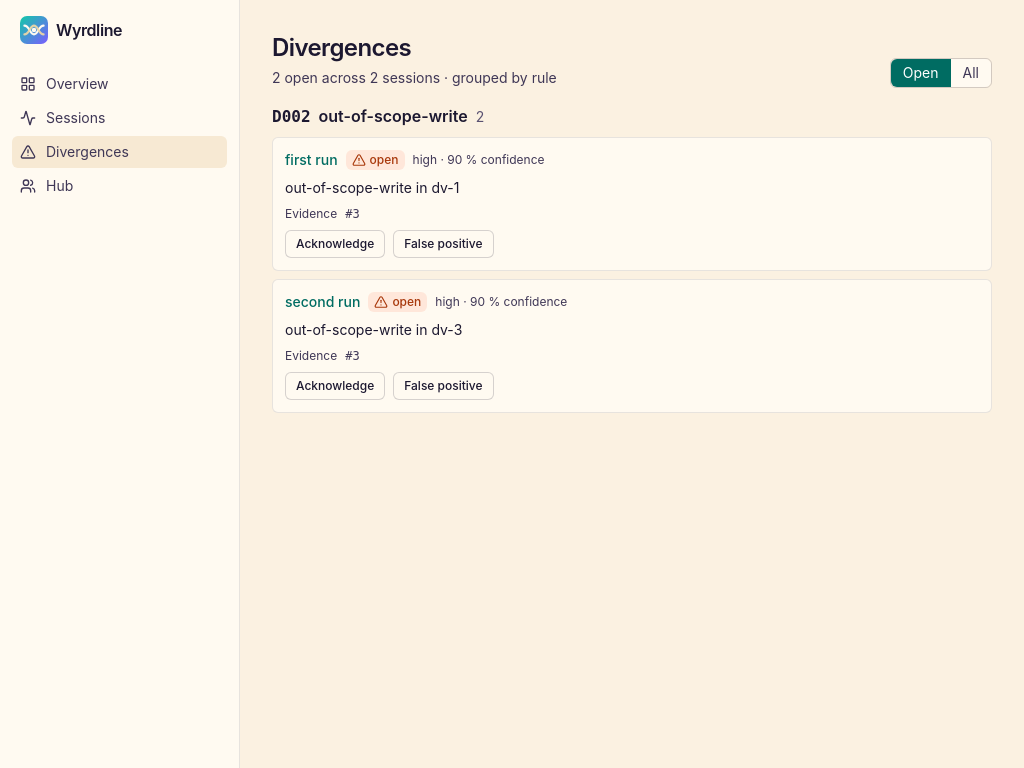
Test case: divergence inbox › shows every divergence on request
The image size is (1024, 768).
Expected: the element "D002" is shown, x1=272 y1=104 x2=992 y2=413
Click the button "All" at {"x": 971, "y": 73}, box x1=950 y1=59 x2=991 y2=87
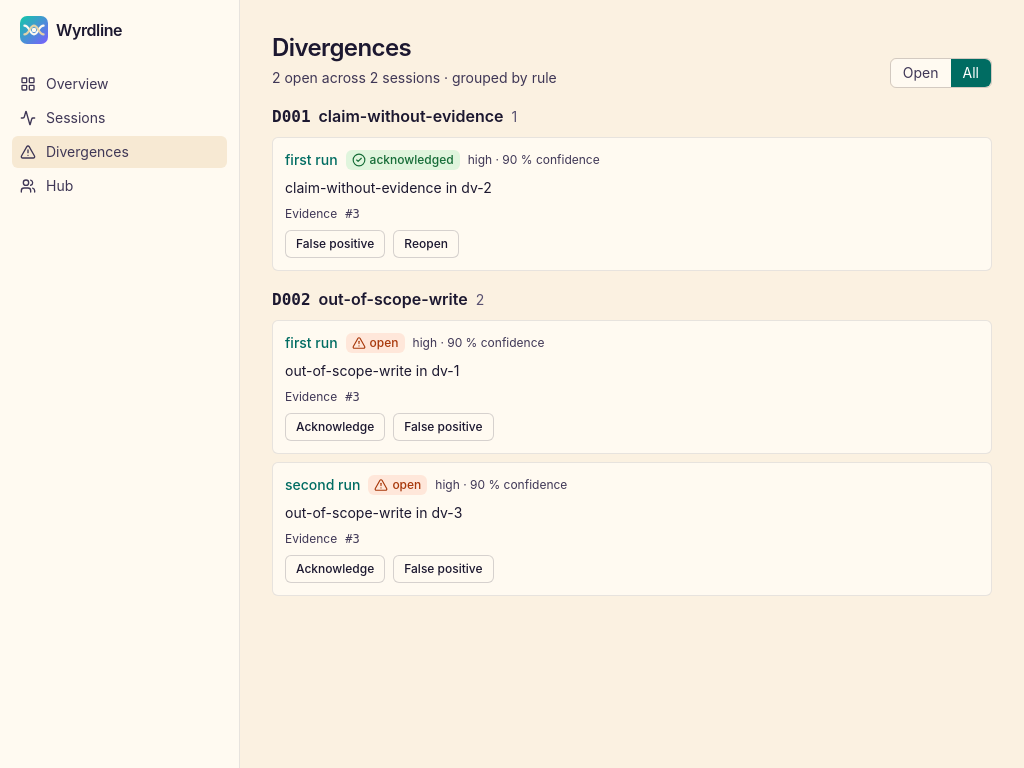
Result: the text "acknowledged" is shown at x1=346 y1=150 x2=460 y2=170
